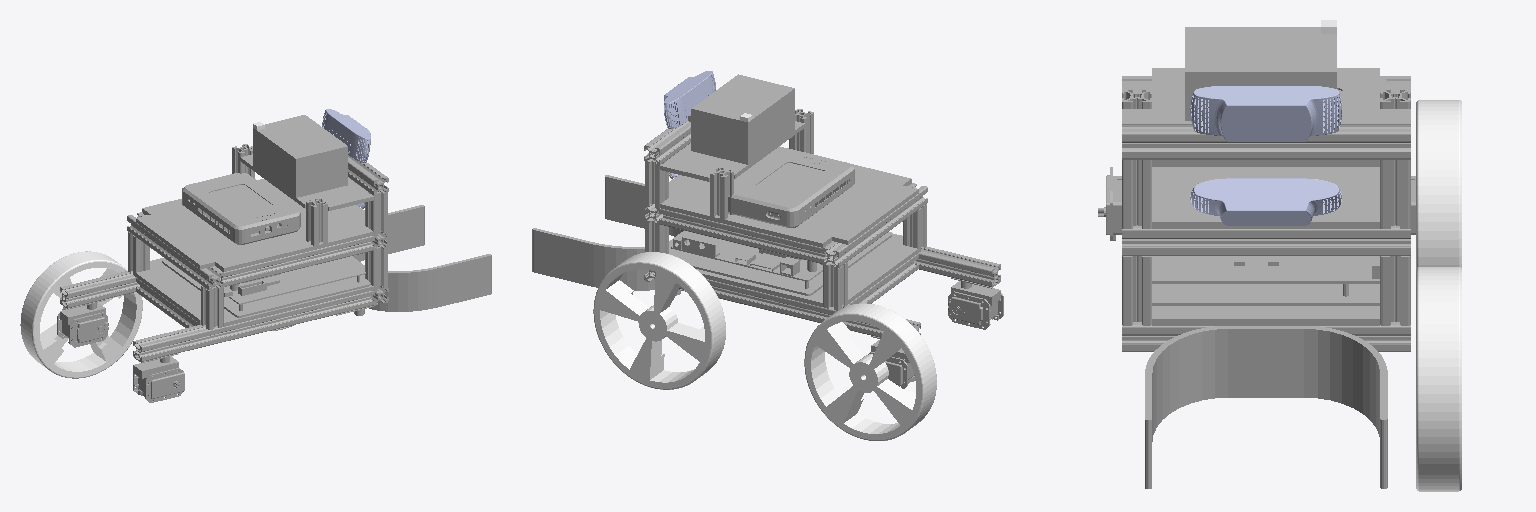
robot.urdf — model20:
<?xml version="1.0" encoding="utf-8"?>
<!-- This URDF was automatically created by SolidWorks to URDF Exporter! Originally created by [author] ([email redacted]) 
     Commit Version: 1.5.1-0-g916b5db  Build Version: 1.5.7152.31018
     For more information, please see http://wiki.ros.org/sw_urdf_exporter -->
<robot
  name="model20">
  <link
    name="base_link">
    <inertial>
      <origin
        xyz="0.0907752936364037 -0.000460986291312686 0.011227466081566"
        rpy="0 0 0" />
      <mass
        value="3.22193376520188" />
      <inertia
        ixx="0.00580202538592001"
        ixy="1.93643410745576E-06"
        ixz="7.04866117852106E-07"
        iyy="0.00722010442143998"
        iyz="3.86677335720296E-07"
        izz="0.012512387462665" />
    </inertial>
    <visual>
      <origin
        xyz="0 0 0"
        rpy="0 0 0" />
      <geometry>
        <mesh
          filename="package://model20/meshes/base_link.STL" />
      </geometry>
      <material
        name="">
        <color
          rgba="0.752941176470588 0.752941176470588 0.752941176470588 1" />
      </material>
    </visual>
    <collision>
      <origin
        xyz="0 0 0"
        rpy="0 0 0" />
      <geometry>
        <mesh
          filename="package://model20/meshes/base_link.STL" />
      </geometry>
    </collision>
  </link>
  <link
    name="left_front_wheel_suspension">
    <inertial>
      <origin
        xyz="-0.00786741617842004 -0.0155948984609685 0.023255686661272"
        rpy="0 0 0" />
      <mass
        value="0.0651133753251555" />
      <inertia
        ixx="1.48802639086072E-05"
        ixy="1.64845302056269E-08"
        ixz="-1.56454773175215E-07"
        iyy="1.75245555054544E-05"
        iyz="-2.96411876510436E-09"
        izz="8.01010182899686E-06" />
    </inertial>
    <visual>
      <origin
        xyz="0 0 0"
        rpy="0 0 0" />
      <geometry>
        <mesh
          filename="package://model20/meshes/left_front_wheel_suspension.STL" />
      </geometry>
      <material
        name="">
        <color
          rgba="0.752941176470588 0.752941176470588 0.752941176470588 1" />
      </material>
    </visual>
    <collision>
      <origin
        xyz="0 0 0"
        rpy="0 0 0" />
      <geometry>
        <mesh
          filename="package://model20/meshes/left_front_wheel_suspension.STL" />
      </geometry>
    </collision>
  </link>
  <joint
    name="left_front_wheel_suspension_joint"
    type="prismatic">
    <origin
      xyz="0.16352 0.0775901982858018 -0.0625778167969167"
      rpy="1.5707963267949 0 -1.5707963267949" />
    <parent
      link="base_link" />
    <child
      link="left_front_wheel_suspension" />
    <axis
      xyz="0 1 0" />
    <limit
      lower="0"
      upper="0"
      effort="0"
      velocity="0" />
  </joint>
  <link
    name="left_front_wheel">
    <inertial>
      <origin
        xyz="0.015839199018542 9.71445146547012E-17 -1.11022302462516E-16"
        rpy="0 0 0" />
      <mass
        value="0.22822169800504" />
      <inertia
        ixx="0.000789211576333901"
        ixy="2.89375036991955E-20"
        ixz="6.39175605993767E-20"
        iyy="0.000410429434291421"
        iyz="-3.48977574268772E-19"
        izz="0.000410429434291421" />
    </inertial>
    <visual>
      <origin
        xyz="0 0 0"
        rpy="0 0 0" />
      <geometry>
        <mesh
          filename="package://model20/meshes/left_front_wheel.STL" />
      </geometry>
      <material
        name="">
        <color
          rgba="1 1 1 1" />
      </material>
    </visual>
    <collision>
      <origin
        xyz="0 0 0"
        rpy="0 0 0" />
      <geometry>
        <mesh
          filename="package://model20/meshes/left_front_wheel.STL" />
      </geometry>
    </collision>
  </link>
  <joint
    name="left_front_wheel_joint"
    type="continuous">
    <origin
      xyz="-0.019761 -0.021787 0.01"
      rpy="3.0841 0 3.1416" />
    <parent
      link="left_front_wheel_suspension" />
    <child
      link="left_front_wheel" />
    <axis
      xyz="1 0 0" />
    <limit
      effort="3.1"
      velocity="7" />
  </joint>
  <link
    name="right_front_wheel_suspension">
    <inertial>
      <origin
        xyz="-0.00415434378457435 -0.0156302499401892 0.0232556866612721"
        rpy="0 0 0" />
      <mass
        value="0.0651133753251555" />
      <inertia
        ixx="1.48802639086072E-05"
        ixy="1.64845302056301E-08"
        ixz="1.56454773175217E-07"
        iyy="1.75245555054544E-05"
        iyz="2.96411876510205E-09"
        izz="8.01010182899685E-06" />
    </inertial>
    <visual>
      <origin
        xyz="0 0 0"
        rpy="0 0 0" />
      <geometry>
        <mesh
          filename="package://model20/meshes/right_front_wheel_suspension.STL" />
      </geometry>
      <material
        name="">
        <color
          rgba="0.752941176470588 0.752941176470588 0.752941176470588 1" />
      </material>
    </visual>
    <collision>
      <origin
        xyz="0 0 0"
        rpy="0 0 0" />
      <geometry>
        <mesh
          filename="package://model20/meshes/right_front_wheel_suspension.STL" />
      </geometry>
    </collision>
  </link>
  <joint
    name="right_front_wheel_suspension_joint"
    type="prismatic">
    <origin
      xyz="0.16352 -0.0924098017141981 -0.0625778167969166"
      rpy="1.5707963267949 0 -1.5707963267949" />
    <parent
      link="base_link" />
    <child
      link="right_front_wheel_suspension" />
    <axis
      xyz="0 1 0" />
    <limit
      lower="0"
      upper="0"
      effort="0"
      velocity="0" />
  </joint>
  <link
    name="right_front_wheel">
    <inertial>
      <origin
        xyz="0.015839199018542 1.11022302462516E-16 0"
        rpy="0 0 0" />
      <mass
        value="0.22822169800504" />
      <inertia
        ixx="0.000789211576333899"
        ixy="-3.36043888598704E-20"
        ixz="5.74606485725436E-21"
        iyy="0.000410429434291421"
        iyz="-3.11708124589583E-19"
        izz="0.00041042943429142" />
    </inertial>
    <visual>
      <origin
        xyz="0 0 0"
        rpy="0 0 0" />
      <geometry>
        <mesh
          filename="package://model20/meshes/right_front_wheel.STL" />
      </geometry>
      <material
        name="">
        <color
          rgba="1 1 1 1" />
      </material>
    </visual>
    <collision>
      <origin
        xyz="0 0 0"
        rpy="0 0 0" />
      <geometry>
        <mesh
          filename="package://model20/meshes/right_front_wheel.STL" />
      </geometry>
    </collision>
  </link>
  <joint
    name="right_front_wheel_joint"
    type="continuous">
    <origin
      xyz="0.0077391 -0.021785 0.01"
      rpy="0.1626 0 0" />
    <parent
      link="right_front_wheel_suspension" />
    <child
      link="right_front_wheel" />
    <axis
      xyz="1 0 0" />
    <limit
      effort="3.1"
      velocity="7" />
  </joint>
  <link
    name="camera">
    <inertial>
      <origin
        xyz="0.000445525343312547 -1.10630004968165E-05 0.00129821972548655"
        rpy="0 0 0" />
      <mass
        value="0.0436119949785296" />
      <inertia
        ixx="2.35707056099611E-05"
        ixy="-1.01834758005031E-09"
        ixz="2.17579332532604E-08"
        iyy="4.29479078276671E-06"
        iyz="-8.85484504040341E-10"
        izz="2.21058144654647E-05" />
    </inertial>
    <visual>
      <origin
        xyz="0 0 0"
        rpy="0 0 0" />
      <geometry>
        <mesh
          filename="package://model20/meshes/camera.STL" />
      </geometry>
      <material
        name="">
        <color
          rgba="0.792156862745098 0.819607843137255 0.933333333333333 1" />
      </material>
    </visual>
    <collision>
      <origin
        xyz="0 0 0"
        rpy="0 0 0" />
      <geometry>
        <mesh
          filename="package://model20/meshes/camera.STL" />
      </geometry>
    </collision>
  </link>
  <joint
    name="camera"
    type="fixed">
    <origin
      xyz="0.187402168745667 -0.00138831907815339 0.0607363291791636"
      rpy="0 0.785398163397447 0" />
    <parent
      link="base_link" />
    <child
      link="camera" />
    <axis
      xyz="0 0 0" />
  </joint>
  <link
    name="camera2">
    <inertial>
      <origin
        xyz="0.000445525266833502 -1.10639236487395E-05 0.00129821764747486"
        rpy="0 0 0" />
      <mass
        value="0.0436119958611832" />
      <inertia
        ixx="2.35707063464805E-05"
        ixy="-1.0183662640488E-09"
        ixz="2.17587007085052E-08"
        iyy="4.29479063311557E-06"
        iyz="-8.85041666161473E-10"
        izz="2.21058153836914E-05" />
    </inertial>
    <visual>
      <origin
        xyz="0 0 0"
        rpy="0 0 0" />
      <geometry>
        <mesh
          filename="package://model20/meshes/camera2.STL" />
      </geometry>
      <material
        name="">
        <color
          rgba="0.792156862745098 0.819607843137255 0.933333333333333 1" />
      </material>
    </visual>
    <collision>
      <origin
        xyz="0 0 0"
        rpy="0 0 0" />
      <geometry>
        <mesh
          filename="package://model20/meshes/camera2.STL" />
      </geometry>
    </collision>
  </link>
  <joint
    name="camera2"
    type="fixed">
    <origin
      xyz="0.184246194713152 -0.00139050228123667 0.123169082523395"
      rpy="0 0.174532925199424 0" />
    <parent
      link="base_link" />
    <child
      link="camera2" />
    <axis
      xyz="0 0 0" />
  </joint>
  <link
    name="lidar">
    <inertial>
      <origin
        xyz="-0.00868778989367713 -0.00242014065569162 -0.0287648859064543"
        rpy="0 0 0" />
      <mass
        value="0.0730845706123877" />
      <inertia
        ixx="1.95808756096351E-05"
        ixy="-1.03933750344927E-07"
        ixz="4.28391241039135E-07"
        iyy="2.41250086763081E-05"
        iyz="-9.42709906914285E-09"
        izz="4.1418452244397E-05" />
    </inertial>
    <visual>
      <origin
        xyz="0 0 0"
        rpy="0 0 0" />
      <geometry>
        <mesh
          filename="package://model20/meshes/lidar.STL" />
      </geometry>
      <material
        name="">
        <color
          rgba="0.792156862745098 0.819607843137255 0.933333333333333 1" />
      </material>
    </visual>
    <collision>
      <origin
        xyz="0 0 0"
        rpy="0 0 0" />
      <geometry>
        <mesh
          filename="package://model20/meshes/lidar.STL" />
      </geometry>
    </collision>
  </link>
  <joint
    name="lidar_joint"
    type="fixed">
    <origin
      xyz="0.119259482420036 -0.0091960486691496 0.191917816796912"
      rpy="0 0 0" />
    <parent
      link="base_link" />
    <child
      link="lidar" />
    <axis
      xyz="0 0 0" />
  </joint>
  <link
    name="imu">
    <inertial>
      <origin
        xyz="-0.0307407972140711 0.0490477681843309 -0.0509999999999956"
        rpy="0 0 0" />
      <mass
        value="0.000510000000000001" />
      <inertia
        ixx="5.31250000000002E-09"
        ixy="-7.37257477290141E-26"
        ixz="-3.69426294538433E-27"
        iyy="5.31250000000002E-09"
        iyz="-2.21177243187046E-26"
        izz="8.50000000000004E-09" />
    </inertial>
    <visual>
      <origin
        xyz="0 0 0"
        rpy="0 0 0" />
      <geometry>
        <mesh
          filename="package://model20/meshes/imu.STL" />
      </geometry>
      <material
        name="">
        <color
          rgba="1 1 1 1" />
      </material>
    </visual>
    <collision>
      <origin
        xyz="0 0 0"
        rpy="0 0 0" />
      <geometry>
        <mesh
          filename="package://model20/meshes/imu.STL" />
      </geometry>
    </collision>
  </link>
  <joint
    name="imu"
    type="fixed">
    <origin
      xyz="0.119259482420036 -0.0091960486691496 0.191917816796912"
      rpy="0 0 0" />
    <parent
      link="base_link" />
    <child
      link="imu" />
    <axis
      xyz="0 0 0" />
  </joint>
  <link
    name="left_rear_wheel_suspension">
    <inertial>
      <origin
        xyz="-0.0078674161784201 -0.0155948984609685 0.0232556866612722"
        rpy="0 0 0" />
      <mass
        value="0.0651133753251555" />
      <inertia
        ixx="1.48802639086072E-05"
        ixy="1.64845302056269E-08"
        ixz="-1.56454773175217E-07"
        iyy="1.75245555054544E-05"
        iyz="-2.96411876510503E-09"
        izz="8.01010182899685E-06" />
    </inertial>
    <visual>
      <origin
        xyz="0 0 0"
        rpy="0 0 0" />
      <geometry>
        <mesh
          filename="package://model20/meshes/left_rear_wheel_suspension.STL" />
      </geometry>
      <material
        name="">
        <color
          rgba="0.752941176470588 0.752941176470588 0.752941176470588 1" />
      </material>
    </visual>
    <collision>
      <origin
        xyz="0 0 0"
        rpy="0 0 0" />
      <geometry>
        <mesh
          filename="package://model20/meshes/left_rear_wheel_suspension.STL" />
      </geometry>
    </collision>
  </link>
  <joint
    name="left_rear_wheel_suspension_joint"
    type="prismatic">
    <origin
      xyz="-0.09648 0.0775915130798368 -0.0625778167969167"
      rpy="1.5707963267949 0 -1.5707963267949" />
    <parent
      link="base_link" />
    <child
      link="left_rear_wheel_suspension" />
    <axis
      xyz="0 1 0" />
    <limit
      lower="0"
      upper="0"
      effort="0"
      velocity="0" />
  </joint>
  <link
    name="left_rear_wheel">
    <inertial>
      <origin
        xyz="0.0158391990185419 2.22044604925031E-16 0"
        rpy="0 0 0" />
      <mass
        value="0.22822169800504" />
      <inertia
        ixx="0.000789211576333901"
        ixy="1.13428467661823E-21"
        ixz="-7.95835235338356E-21"
        iyy="0.000410429434291422"
        iyz="-4.87890977618477E-19"
        izz="0.000410429434291421" />
    </inertial>
    <visual>
      <origin
        xyz="0 0 0"
        rpy="0 0 0" />
      <geometry>
        <mesh
          filename="package://model20/meshes/left_rear_wheel.STL" />
      </geometry>
      <material
        name="">
        <color
          rgba="1 1 1 1" />
      </material>
    </visual>
    <collision>
      <origin
        xyz="0 0 0"
        rpy="0 0 0" />
      <geometry>
        <mesh
          filename="package://model20/meshes/left_rear_wheel.STL" />
      </geometry>
    </collision>
  </link>
  <joint
    name="left_rear_wheel_joint"
    type="continuous">
    <origin
      xyz="-0.019761 -0.021787 0.01"
      rpy="-1.9626 0 3.1416" />
    <parent
      link="left_rear_wheel_suspension" />
    <child
      link="left_rear_wheel" />
    <axis
      xyz="1 0 0" />
    <limit
      effort="3.1"
      velocity="7" />
  </joint>
  <link
    name="right_rear_wheel_suspension">
    <inertial>
      <origin
        xyz="-0.00415434378457438 -0.0156302499401892 0.0232556866612721"
        rpy="0 0 0" />
      <mass
        value="0.0651133753251556" />
      <inertia
        ixx="1.48802639086072E-05"
        ixy="1.64845302056287E-08"
        ixz="1.56454773175219E-07"
        iyy="1.75245555054545E-05"
        iyz="2.9641187651008E-09"
        izz="8.01010182899687E-06" />
    </inertial>
    <visual>
      <origin
        xyz="0 0 0"
        rpy="0 0 0" />
      <geometry>
        <mesh
          filename="package://model20/meshes/right_rear_wheel_suspension.STL" />
      </geometry>
      <material
        name="">
        <color
          rgba="0.752941176470588 0.752941176470588 0.752941176470588 1" />
      </material>
    </visual>
    <collision>
      <origin
        xyz="0 0 0"
        rpy="0 0 0" />
      <geometry>
        <mesh
          filename="package://model20/meshes/right_rear_wheel_suspension.STL" />
      </geometry>
    </collision>
  </link>
  <joint
    name="right_rear_wheel_suspension_joint"
    type="prismatic">
    <origin
      xyz="-0.09648 -0.09241 -0.062578"
      rpy="1.5708 0 -1.5708" />
    <parent
      link="base_link" />
    <child
      link="right_rear_wheel_suspension" />
    <axis
      xyz="0 1 0" />
    <limit
      lower="0"
      upper="0"
      effort="0"
      velocity="0" />
  </joint>
  <link
    name="right_rear_wheel">
    <inertial>
      <origin
        xyz="0.015839199018542 9.71445146547012E-17 0"
        rpy="0 0 0" />
      <mass
        value="0.22822169800504" />
      <inertia
        ixx="0.0007892115763339"
        ixy="8.62416712928482E-22"
        ixz="6.1113003484616E-21"
        iyy="0.000410429434291421"
        iyz="-3.10015027333924E-19"
        izz="0.00041042943429142" />
    </inertial>
    <visual>
      <origin
        xyz="0 0 0"
        rpy="0 0 0" />
      <geometry>
        <mesh
          filename="package://model20/meshes/right_rear_wheel.STL" />
      </geometry>
      <material
        name="">
        <color
          rgba="1 1 1 1" />
      </material>
    </visual>
    <collision>
      <origin
        xyz="0 0 0"
        rpy="0 0 0" />
      <geometry>
        <mesh
          filename="package://model20/meshes/right_rear_wheel.STL" />
      </geometry>
    </collision>
  </link>
  <joint
    name="right_rear_wheel_joint"
    type="continuous">
    <origin
      xyz="0.0077391 -0.021785 0.01"
      rpy="0 0 0" />
    <parent
      link="right_rear_wheel_suspension" />
    <child
      link="right_rear_wheel" />
    <axis
      xyz="1 0 0" />
    <limit
      effort="3.1"
      velocity="7" />
  </joint>
</robot>

--- What the picture shows (computed from the rendered views, not written in the file) ---
Views: 3 orthographic renders of the robot side by side, from view 1: azimuth 30°, elevation 25°; view 2: azimuth 150°, elevation 25°; view 3: azimuth 270°, elevation 25°.
Robot: model20 — 13 links, 12 joints (4 continuous, 4 prismatic, 4 fixed); root link base_link; default pose: all joints at 0.
Visible links, largest first — view 1: base_link, left_rear_wheel, right_rear_wheel_suspension, left_rear_wheel_suspension, camera2; view 2: base_link, left_rear_wheel, left_front_wheel, right_rear_wheel_suspension, camera2, left_rear_wheel_suspension; view 3: base_link, left_front_wheel, camera2, left_rear_wheel, camera, right_rear_wheel_suspension.
Link boxes in pixels (box(x1,y1,x2,y2)): base_link: box(60, 115, 491, 362); left_rear_wheel: box(20, 251, 142, 378); right_rear_wheel_suspension: box(133, 356, 184, 402); left_rear_wheel_suspension: box(57, 303, 108, 347); camera2: box(322, 109, 370, 162); base_link: box(532, 74, 1000, 338); left_rear_wheel: box(804, 303, 936, 440); left_front_wheel: box(593, 252, 725, 389); right_rear_wheel_suspension: box(948, 281, 1003, 329); camera2: box(664, 71, 715, 128); left_rear_wheel_suspension: box(868, 340, 914, 388); base_link: box(1122, 27, 1410, 488); left_front_wheel: box(1416, 267, 1461, 491); camera2: box(1190, 86, 1341, 141); left_rear_wheel: box(1416, 100, 1461, 268); camera: box(1190, 178, 1341, 225); right_rear_wheel_suspension: box(1098, 167, 1121, 240).
Bounding box of the posed robot: 0.5115 × 0.2395 × 0.3018 m (x, y, z).
8 mesh visuals loaded from 13 distinct referenced files (8 binary STL); not drawn: 5 (reference not matched to a file when rendering).